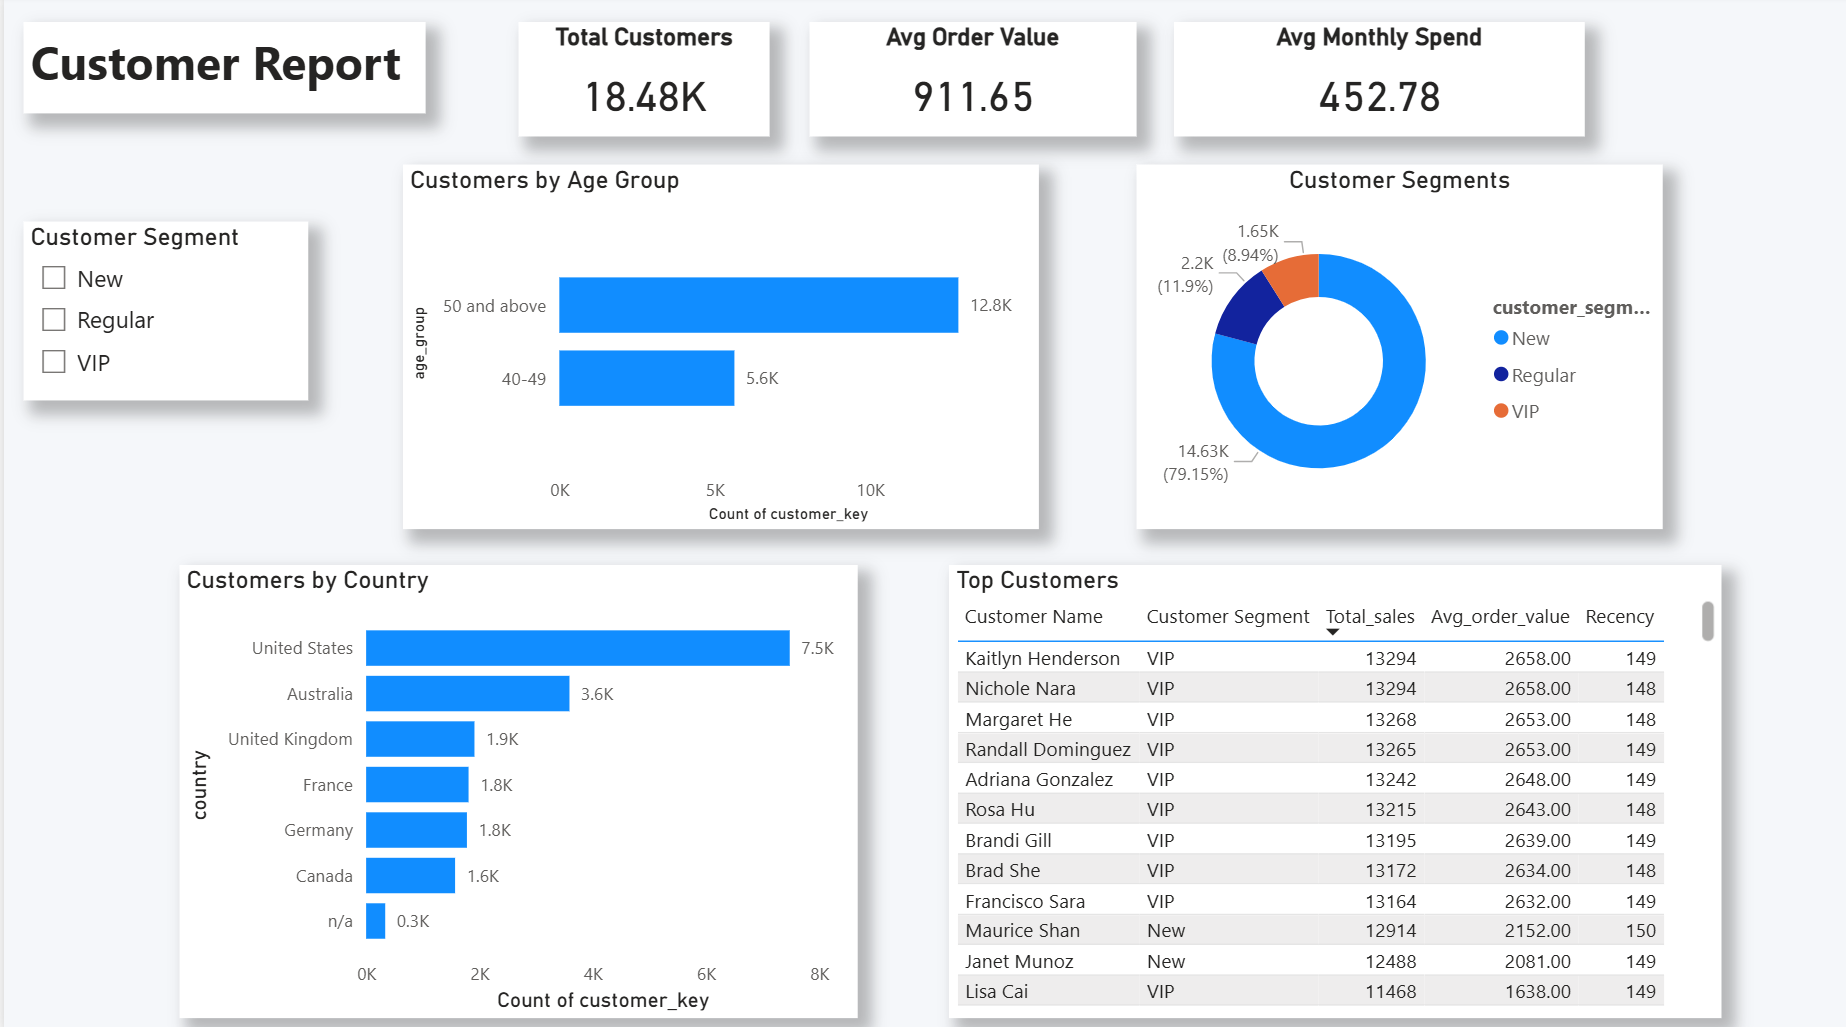

Layout of this report page (visuals, bound fields, positions):
{"tool":"powerbi","page":{"name":"Customer Analytics","canvas":[1280,720],"ordinal":1},"visuals":[{"type":"card","title":"Total Customers","fields":{"Values":["Count(gold report_customers.customer_key)"]},"box":[356.9,19,174.3,79.4],"z":0},{"type":"card","title":"Avg Order Value","fields":{"Values":["Avg(gold report_customers.avg_order_value)"]},"box":[558.4,19,226.4,79.4],"z":1000},{"type":"card","title":"Avg Monthly Spend","fields":{"Values":["Avg(gold report_customers.avg_monthly_spend)","select"]},"box":[810.9,19,284.5,79.4],"z":2000},{"type":"donutChart","title":"Customer Segments","fields":{"Category":["gold report_customers.customer_segment"],"Y":["Count(gold report_customers.customer_key)"]},"box":[784.8,117.5,364.9,252.6],"z":3000},{"type":"clusteredBarChart","title":"Customers by Age Group","fields":{"Category":["gold report_customers.age_group"],"Y":["CountNonNull(gold report_customers.customer_key)"]},"box":[276.5,117.5,440.7,252.6],"z":4000},{"type":"clusteredBarChart","title":"Customers by Country","fields":{"Category":["gold report_customers.country"],"Y":["CountNonNull(gold report_customers.customer_key)"]},"box":[121.6,395,469.8,313.9],"z":5000},{"type":"tableEx","title":"Top Customers","fields":{"Values":["gold report_customers.customer_name","gold report_customers.customer_segment","Sum(gold report_customers.total_sales)","Avg(gold report_customers.avg_order_value)","gold report_customers.recency"]},"box":[654.6,394.7,535.5,314.1],"z":6000},{"type":"textbox","box":[13.3,18.9,278.9,63.3],"z":7000},{"type":"slicer","title":"Customer Segment","fields":{"Values":["gold report_customers.customer_segment"]},"box":[13.5,157,197.5,123.7],"z":8000}]}

Visuals, with their boxes in screenshot pixels (x1, y1, x2, y2), scaled from the page's 1280x720 canvas onto the 1846x1027 screenshot:
"Total Customers" card: [515,27,766,140]
"Avg Order Value" card: [805,27,1132,140]
"Avg Monthly Spend" card: [1169,27,1580,140]
"Customer Segments" donutChart: [1132,168,1658,528]
"Customers by Age Group" clusteredBarChart: [399,168,1034,528]
"Customers by Country" clusteredBarChart: [175,563,853,1011]
"Top Customers" tableEx: [944,563,1716,1011]
textbox: [19,27,421,117]
"Customer Segment" slicer: [19,224,304,400]
